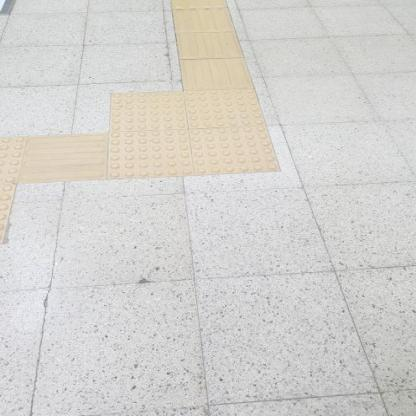podotacti: (88, 58, 311, 212), (160, 0, 258, 88), (20, 132, 108, 184)
